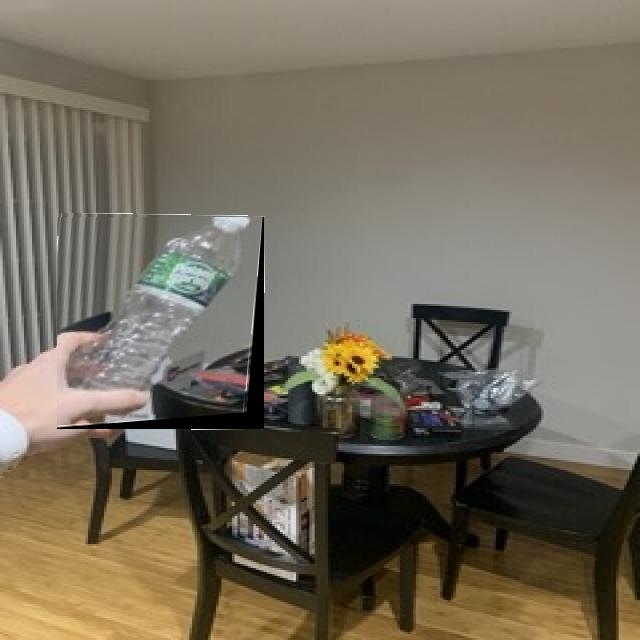water_bottle: (57, 217, 264, 424)
